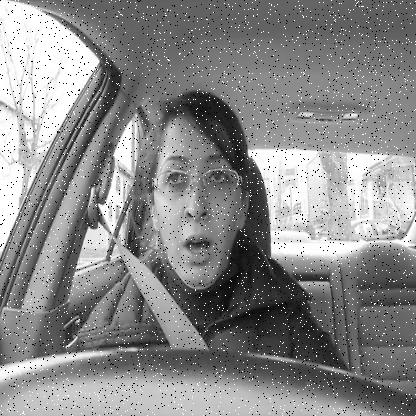seatbelt: (84, 82, 274, 416)
